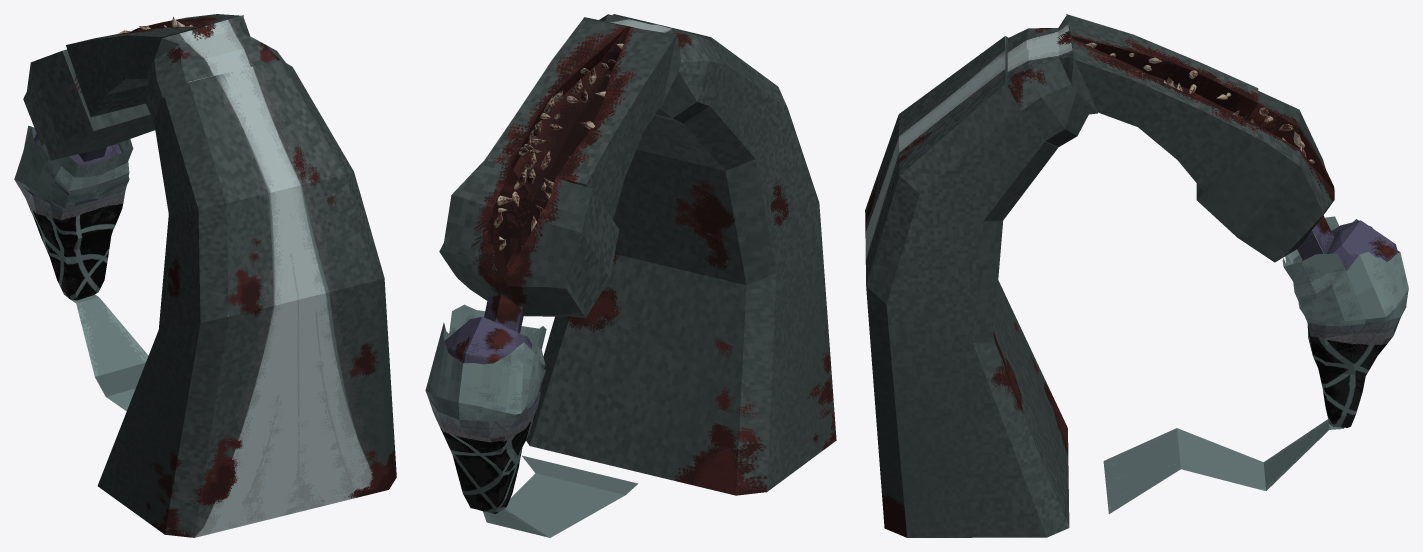
File: Rachel_monster_textured.fbx
3 views of the same model, side by side, from view 1: azimuth 30°, elevation 25°; view 2: azimuth 150°, elevation 25°; view 3: azimuth 270°, elevation 25° (orthographic). The views are drawn at different scales.
Visible parts, largest first — view 1: Skirt, Chest, Torso, Hat, Waist, Plane, Plane.001, Head; view 2: Skirt, Torso, Chest, Plane, Hat, Plane.001, Waist, Head, Cone.056, Neck; view 3: Skirt, Torso, Chest, Plane.001, Plane, Waist, Hat, Head, Cone.056, Neck.
Boxes of the visible parts, x1,y1,x2,y2 form: Skirt: [97, 60, 396, 537]; Chest: [23, 28, 155, 160]; Torso: [66, 14, 243, 117]; Hat: [15, 181, 125, 300]; Waist: [145, 15, 285, 120]; Plane: [14, 125, 133, 208]; Plane.001: [68, 294, 148, 411]; Head: [24, 134, 121, 206]; Skirt: [526, 14, 836, 495]; Torso: [485, 18, 676, 219]; Chest: [439, 160, 619, 317]; Plane: [425, 304, 546, 421]; Hat: [428, 391, 540, 513]; Plane.001: [483, 455, 637, 537]; Waist: [583, 14, 723, 123]; Head: [429, 316, 538, 421]; Cone.056: [494, 43, 623, 250]; Neck: [484, 294, 523, 333]; Skirt: [865, 36, 1069, 537]; Torso: [1066, 14, 1258, 191]; Chest: [1196, 91, 1334, 262]; Plane.001: [1103, 419, 1343, 513]; Plane: [1282, 216, 1408, 326]; Waist: [1007, 15, 1097, 147]; Hat: [1307, 306, 1406, 427]; Head: [1301, 220, 1398, 326]; Cone.056: [1086, 42, 1314, 163]; Neck: [1297, 215, 1334, 260].
Size of the model in its own units: 61.28 by 106 by 118.
10 materials, 10 textured.
